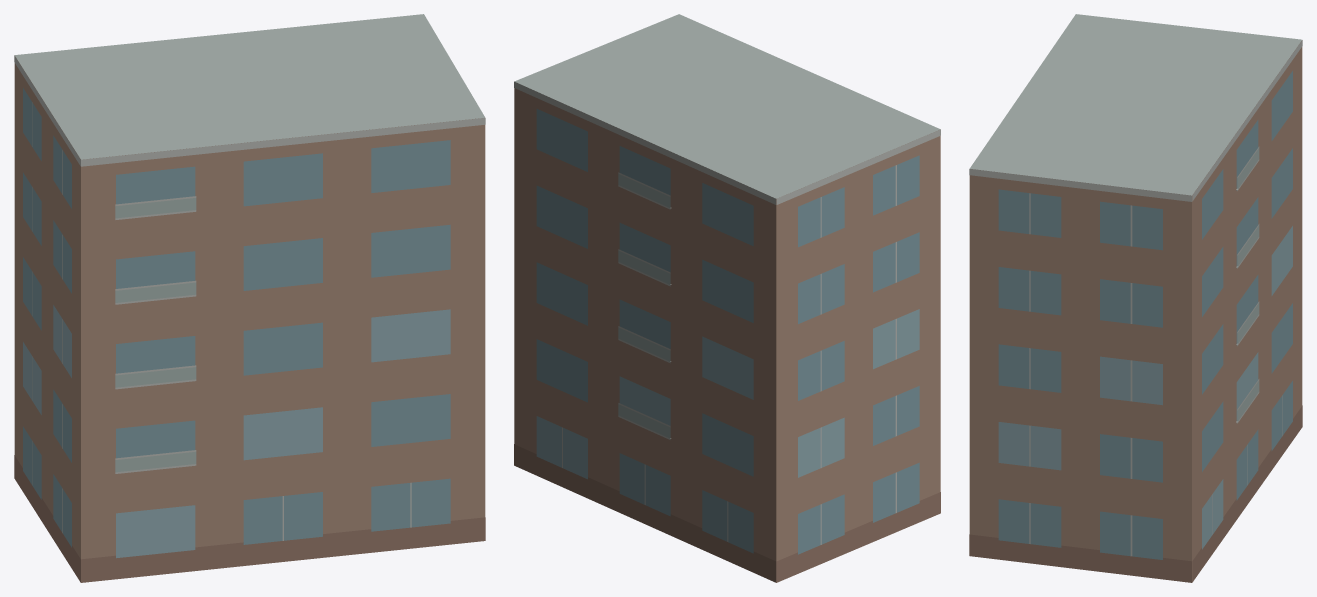
The model's file is survey-upis-32872758.glb.
The picture shows the model from 3 angles, left to right: view 1: azimuth 30°, elevation 25°; view 2: azimuth 150°, elevation 25°; view 3: azimuth 270°, elevation 25°; orthographic projection. The views are drawn at different scales.
Visible parts, largest first — view 1: survey-upis-32872758.tmp; view 2: survey-upis-32872758.tmp; view 3: survey-upis-32872758.tmp.
Part boxes in pixels (x1=…): survey-upis-32872758.tmp: x1=14, y1=14, x2=485, y2=582; survey-upis-32872758.tmp: x1=514, y1=14, x2=940, y2=582; survey-upis-32872758.tmp: x1=969, y1=14, x2=1302, y2=582.
Size of the model in its own units: 14.79 by 14.7 by 11.46.
